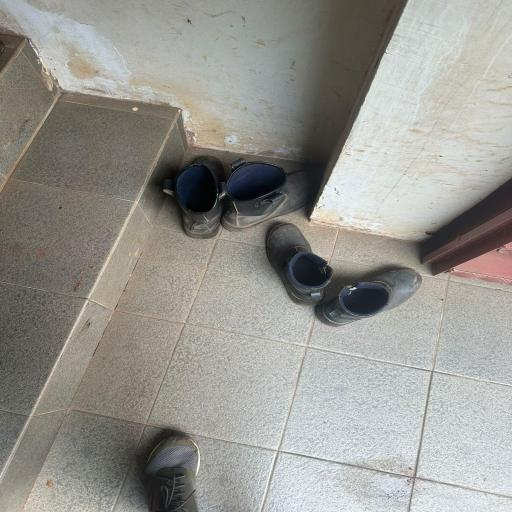not_safety_shoe: (135, 430, 207, 512)
safety_shoe: (320, 257, 425, 330), (226, 156, 328, 228), (261, 223, 331, 303), (167, 151, 226, 239)
